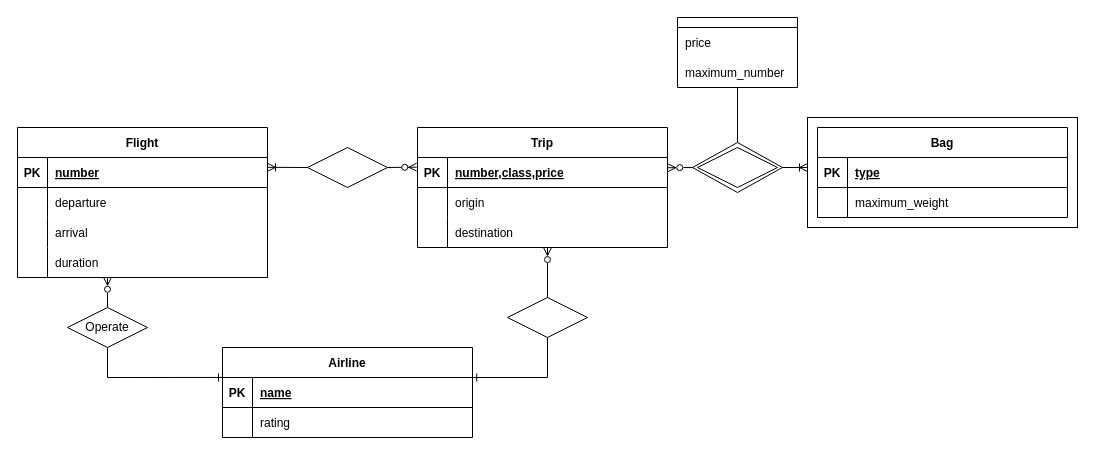
The diagram is 1095 pixels wide and 455 high, and some of its shapes have lost their labels. Here are the shapes that lost their labels. From the top down, the centre of each, then its label:
(347,167): Contains
(737,167): Allows
(547,317): Sell
